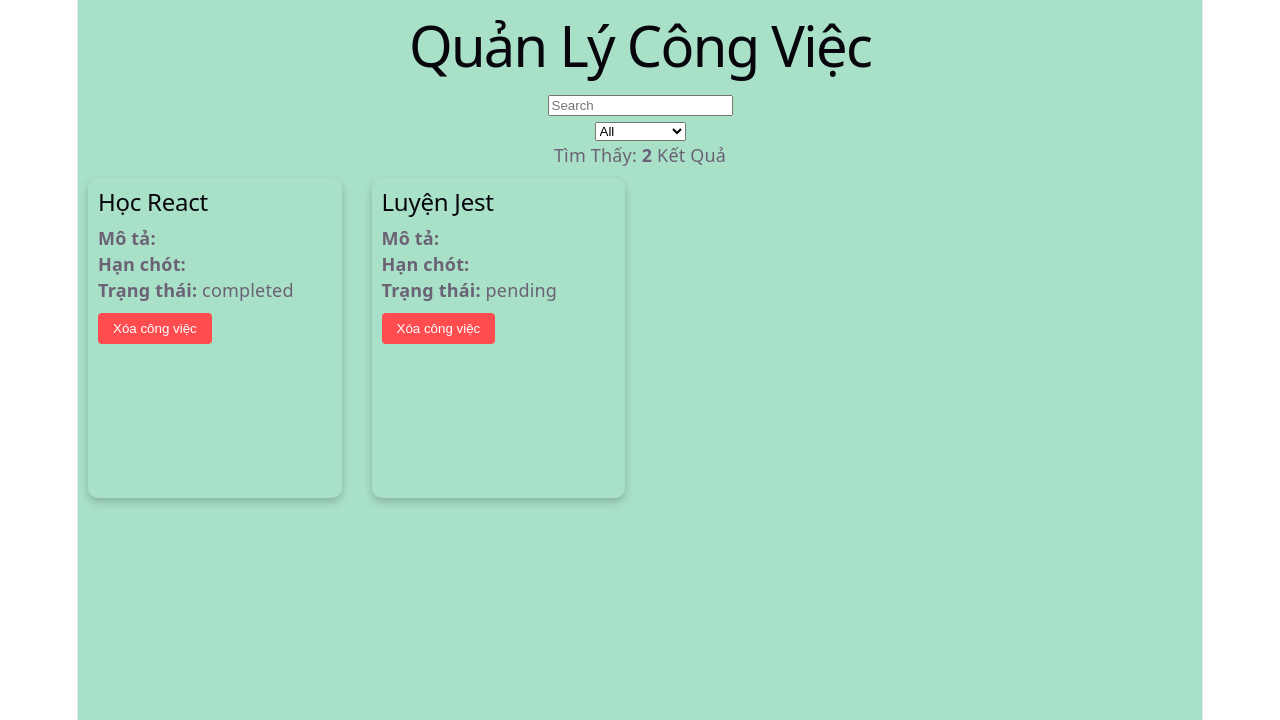
Test: App lọc đúng dữ liệu
Expected: the heading "Học React" is shown, [98, 185, 208, 218]
Type "Jest" into the field with placeholder "Search". click: (640, 106)
box: [548, 95, 732, 116]
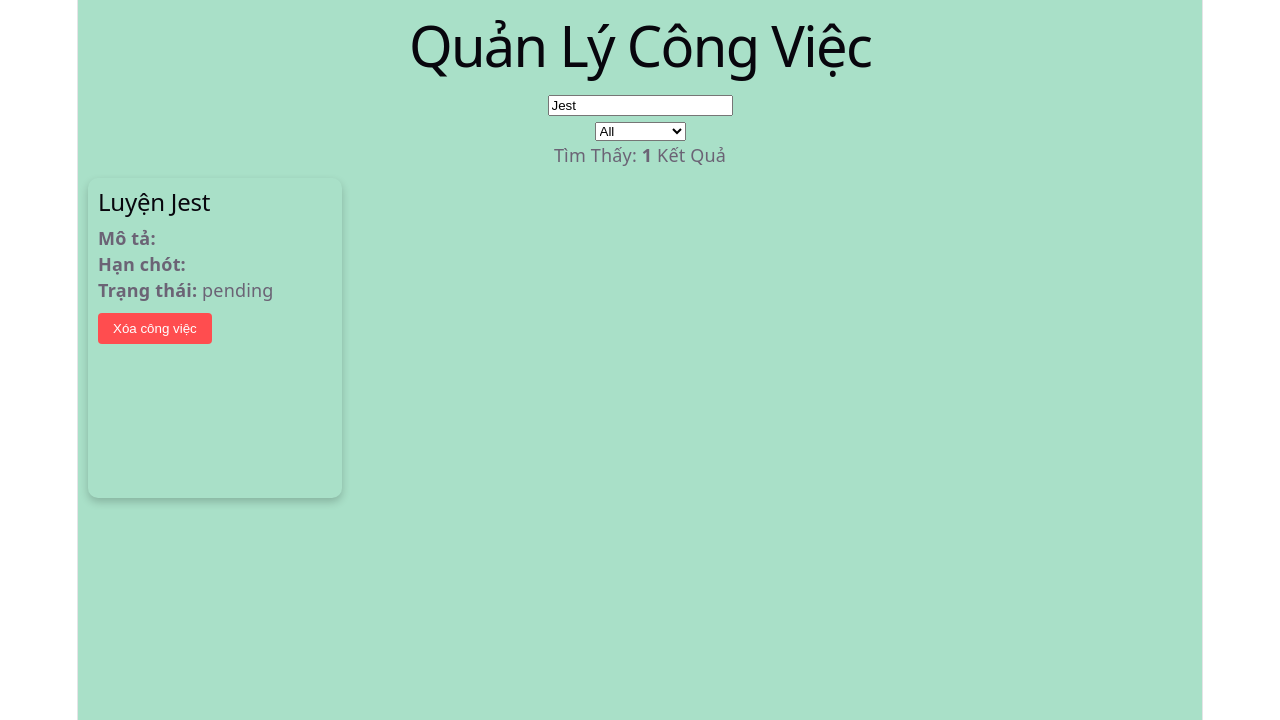
Expected: the heading "Luyện Jest" is shown, [98, 185, 210, 218]
Expected: the heading "Học React" is gone
